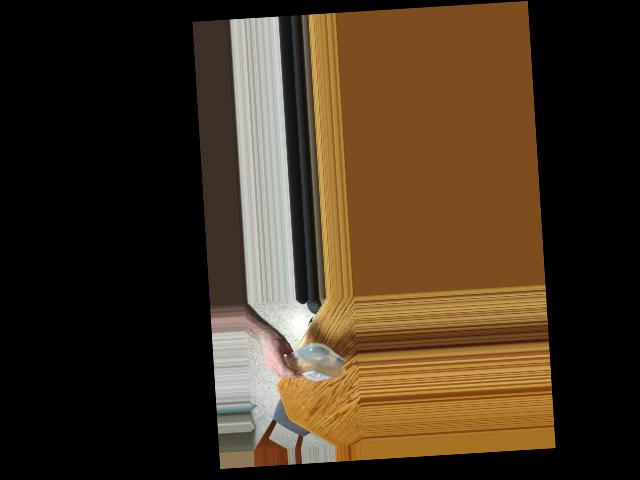cheese: (272, 343, 346, 385)
